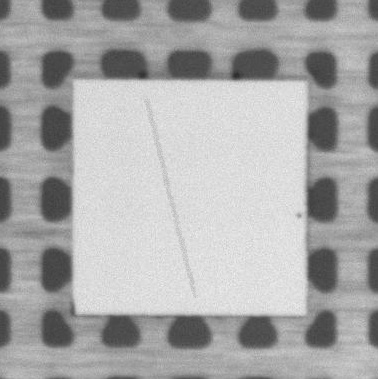DIE_CRACK: (147, 100, 195, 297)
